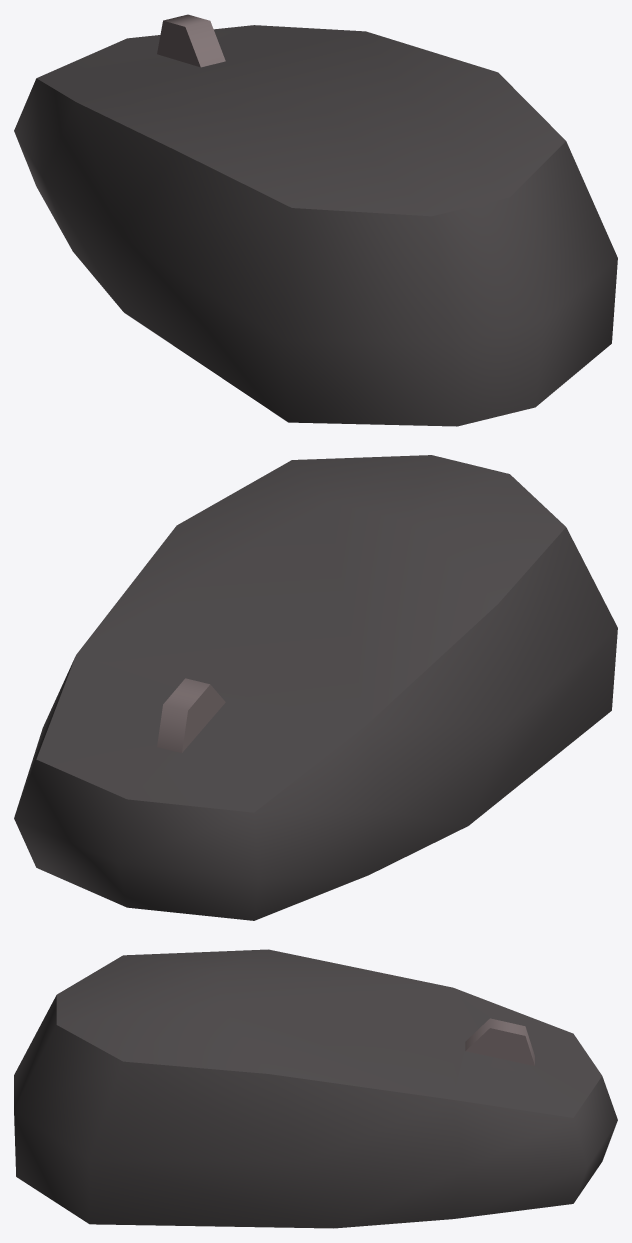
The model's file is SM_Mouse_1_01.fbx.
3 renders of one model, top to bottom at view 1: azimuth 30°, elevation 25°; view 2: azimuth 150°, elevation 25°; view 3: azimuth 270°, elevation 25°, orthographic. The views are drawn at different scales.
Visible parts, largest first — view 1: SM_Mouse_1_01; view 2: SM_Mouse_1_01; view 3: SM_Mouse_1_01.
Part boxes in pixels (box(x1,y1,x2,y2)): SM_Mouse_1_01: box(14, 14, 617, 426); SM_Mouse_1_01: box(14, 455, 617, 920); SM_Mouse_1_01: box(14, 949, 617, 1228).
Size of the model in its own units: 5.05 by 2.72 by 8.55.
